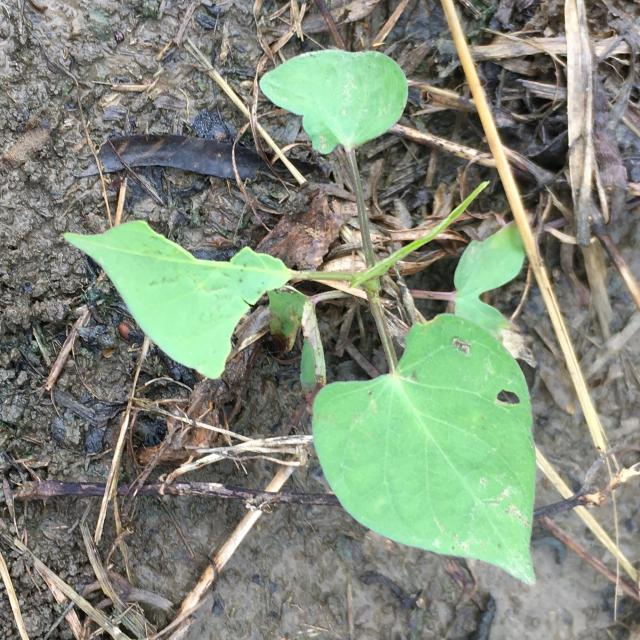MorningGlory: (64, 50, 537, 585)
